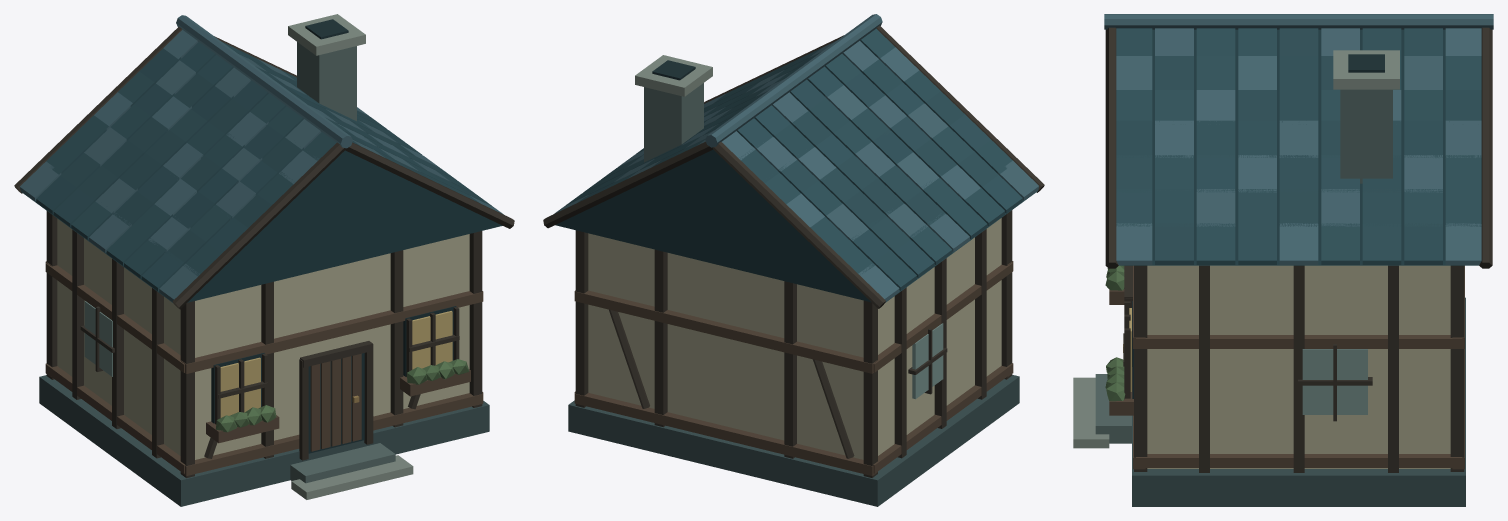
File: timber-cottage.glb
3 renders of one model, left to right at view 1: azimuth 30°, elevation 25°; view 2: azimuth 150°, elevation 25°; view 3: azimuth 270°, elevation 25°, orthographic. The views are drawn at different scales.
Parts seen in each view (by area): view 1: timber-cottage; view 2: timber-cottage; view 3: timber-cottage.
Boxes of the visible parts, box(x1,y1,x2,y2) form: timber-cottage: box(14, 14, 514, 506); timber-cottage: box(543, 14, 1044, 506); timber-cottage: box(1073, 14, 1493, 506).
Bounding box in the file's own units: 5.88 × 5.73 × 5.34.
